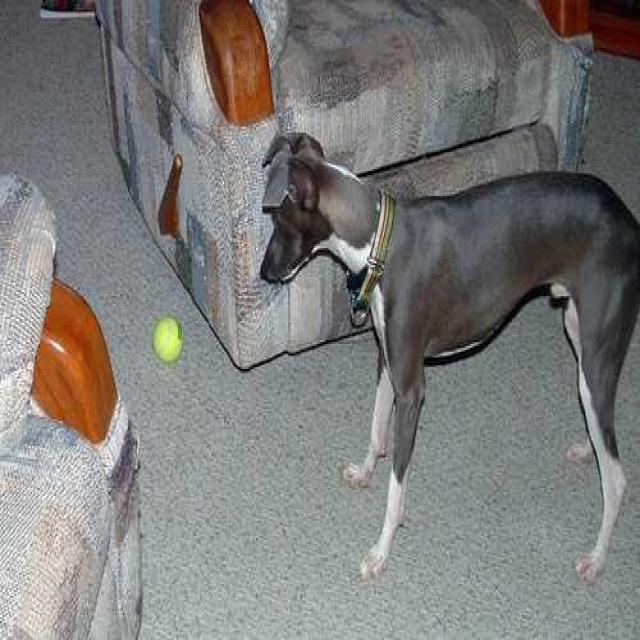Tennis_Ball: (155, 321, 179, 362)
